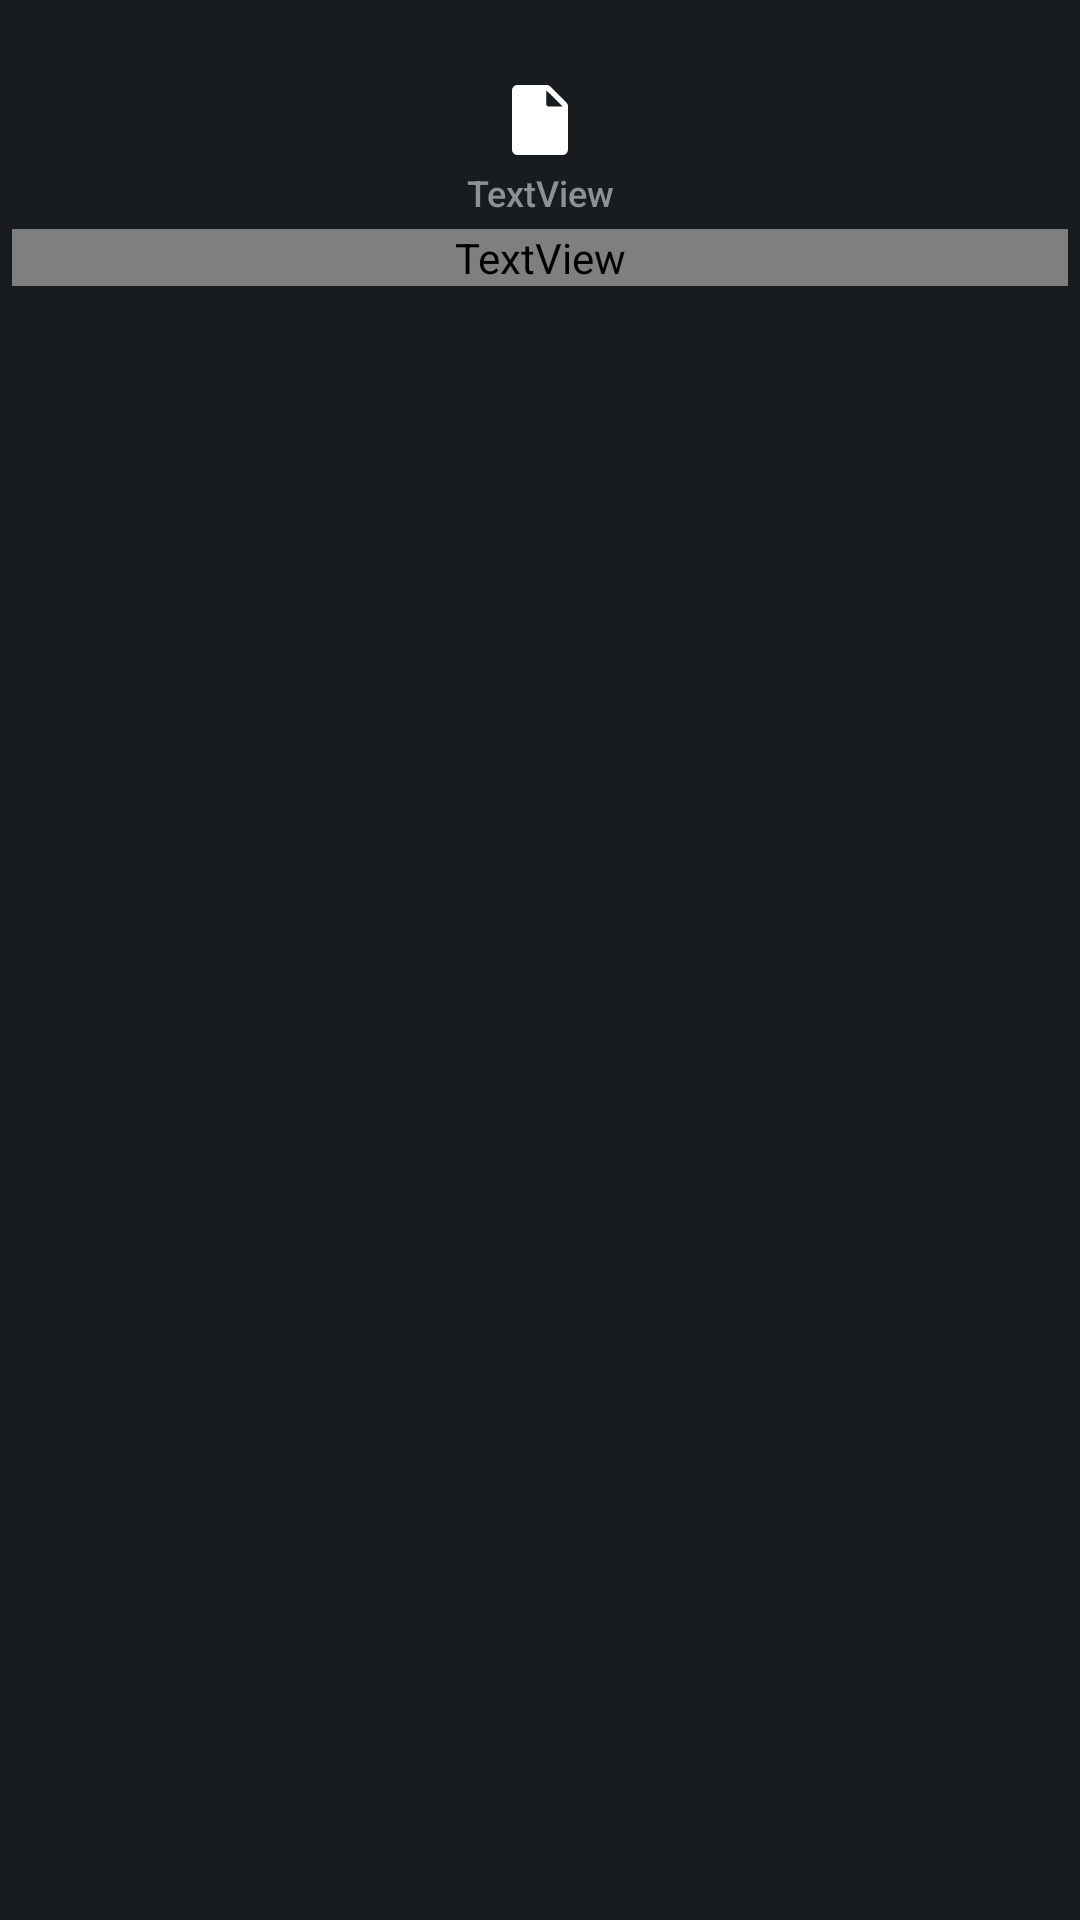

Locate icon controls on the screen. Image size 1080w x 1920h, boxes as [left=x1, top=y1, right=x2, bottom=y2].
draft: [left=512, top=85, right=568, bottom=155]
